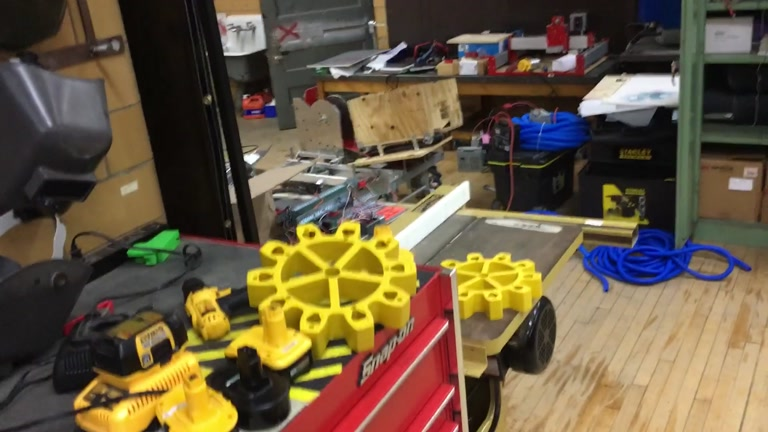gear: (247, 220, 416, 358), (432, 252, 543, 321)
